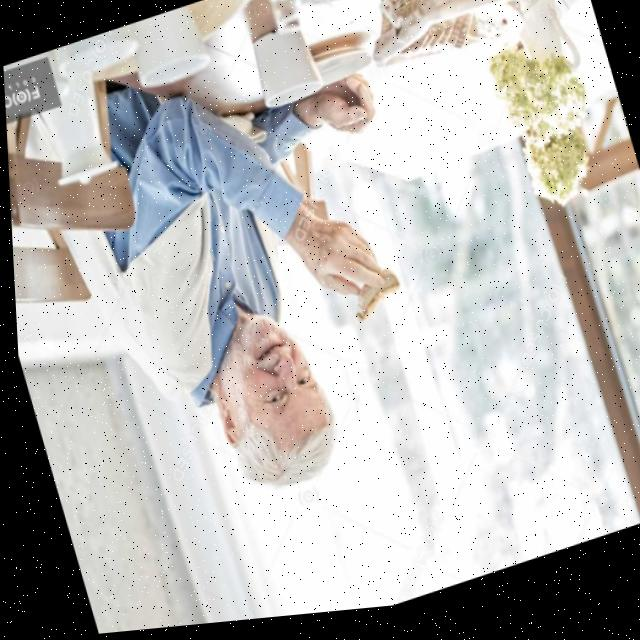eating-person: (3, 0, 561, 531)
